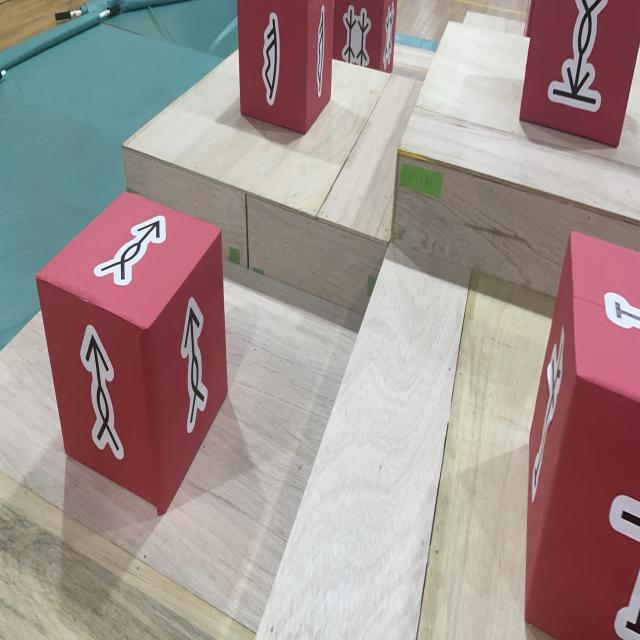11: (262, 12, 280, 107), (316, 3, 325, 98)
12: (80, 324, 124, 461), (94, 214, 166, 286), (180, 296, 208, 434)
6: (342, 4, 372, 68), (384, 2, 394, 70)
7: (548, 0, 609, 113)
9: (531, 327, 565, 503), (608, 493, 640, 640), (605, 291, 640, 330)
fighter: (35, 190, 228, 516), (523, 230, 640, 640), (519, 0, 640, 147), (237, 0, 334, 135), (332, 0, 398, 73), (524, 0, 534, 37)
